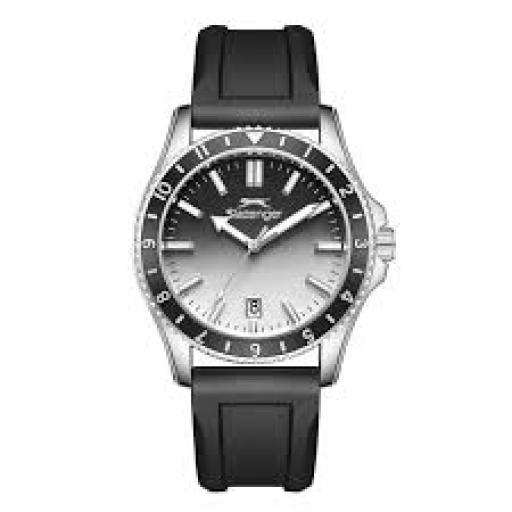KolSaati: (112, 7, 436, 506)
